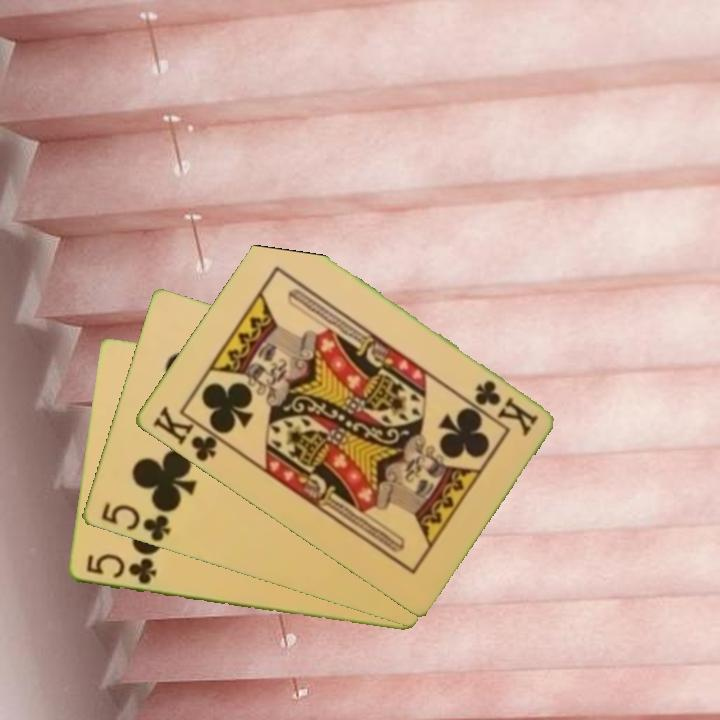5c: (97, 499, 173, 545), (82, 550, 159, 588)
Kc: (148, 402, 229, 465), (470, 376, 541, 438)
